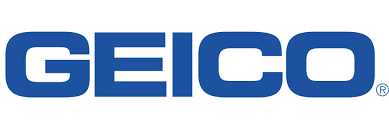Geico: (5, 27, 378, 101)
